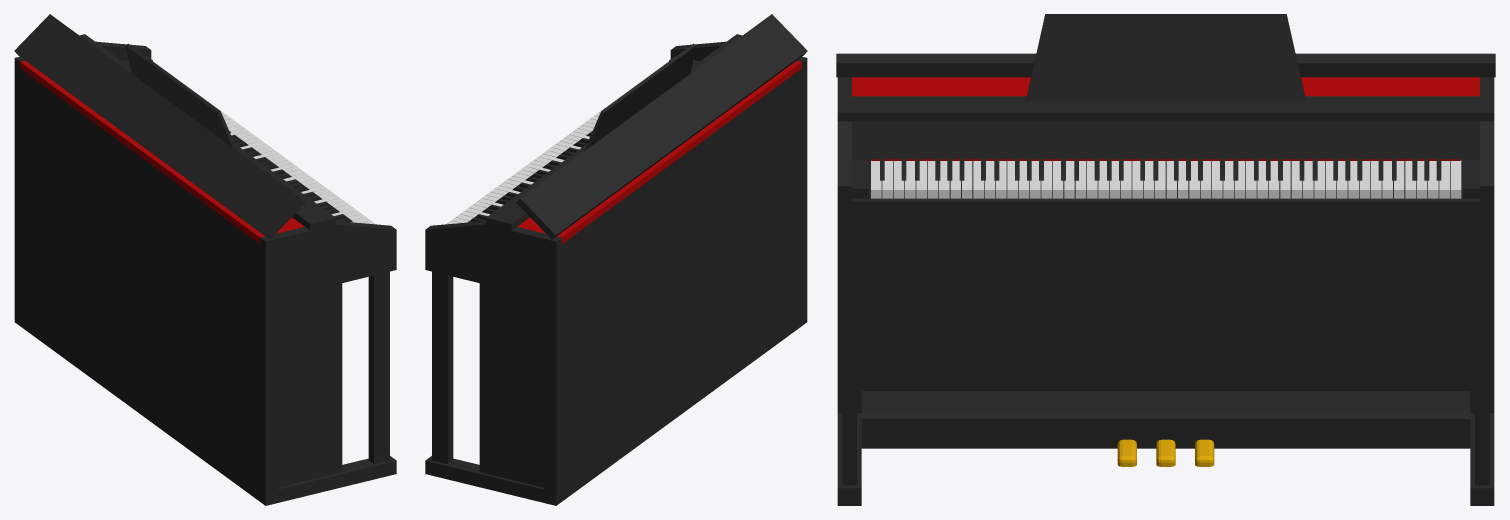
The model's file is piano.glb.
3 views of the same model, side by side, from view 1: azimuth 30°, elevation 25°; view 2: azimuth 150°, elevation 25°; view 3: azimuth 270°, elevation 25° (orthographic). The views are drawn at different scales.
Parts seen in each view (by area): view 1: Body, 立方体.007, 立方体.008, 立方体.002, 立方体.006, 立方体.014, WhiteKey; view 2: Body, 立方体.007, 立方体.009, 立方体.003, 立方体.006, 立方体.014, WhiteKey; view 3: Body, 立方体.010, 立方体.014, WhiteKey, 立方体.007, 立方体.006, 立方体.003, 立方体.002, 立方体.
Boxes of the visible parts, bbox=[...] form: Body: bbox=[14, 34, 396, 505]; 立方体.007: bbox=[14, 14, 305, 239]; 立方体.008: bbox=[278, 283, 342, 487]; 立方体.002: bbox=[368, 271, 389, 464]; 立方体.006: bbox=[20, 60, 304, 243]; 立方体.014: bbox=[125, 43, 237, 151]; WhiteKey: bbox=[153, 61, 375, 224]; Body: bbox=[425, 34, 807, 505]; 立方体.007: bbox=[516, 14, 807, 239]; 立方体.009: bbox=[479, 283, 543, 487]; 立方体.003: bbox=[432, 271, 453, 464]; 立方体.006: bbox=[517, 60, 801, 243]; 立方体.014: bbox=[584, 43, 696, 151]; WhiteKey: bbox=[446, 61, 668, 224]; Body: bbox=[837, 77, 1494, 505]; 立方体.010: bbox=[861, 391, 1470, 448]; 立方体.014: bbox=[1026, 14, 1305, 100]; WhiteKey: bbox=[871, 160, 1461, 198]; 立方体.007: bbox=[836, 53, 1495, 77]; 立方体.006: bbox=[852, 77, 1479, 96]; 立方体.003: bbox=[1475, 239, 1489, 485]; 立方体.002: bbox=[842, 239, 856, 485]; 立方体: bbox=[871, 159, 1460, 160].
Bounding box in the file's own units: 0.41 × 0.9817 × 1.36.
